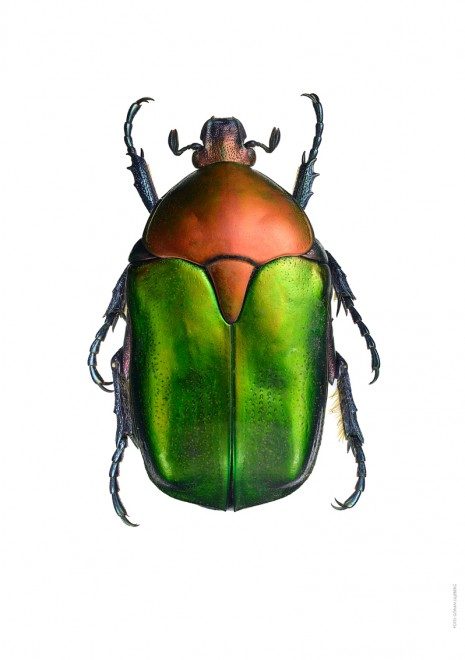Protaetia_cuprea_ignicollis: (84, 69, 399, 545)
